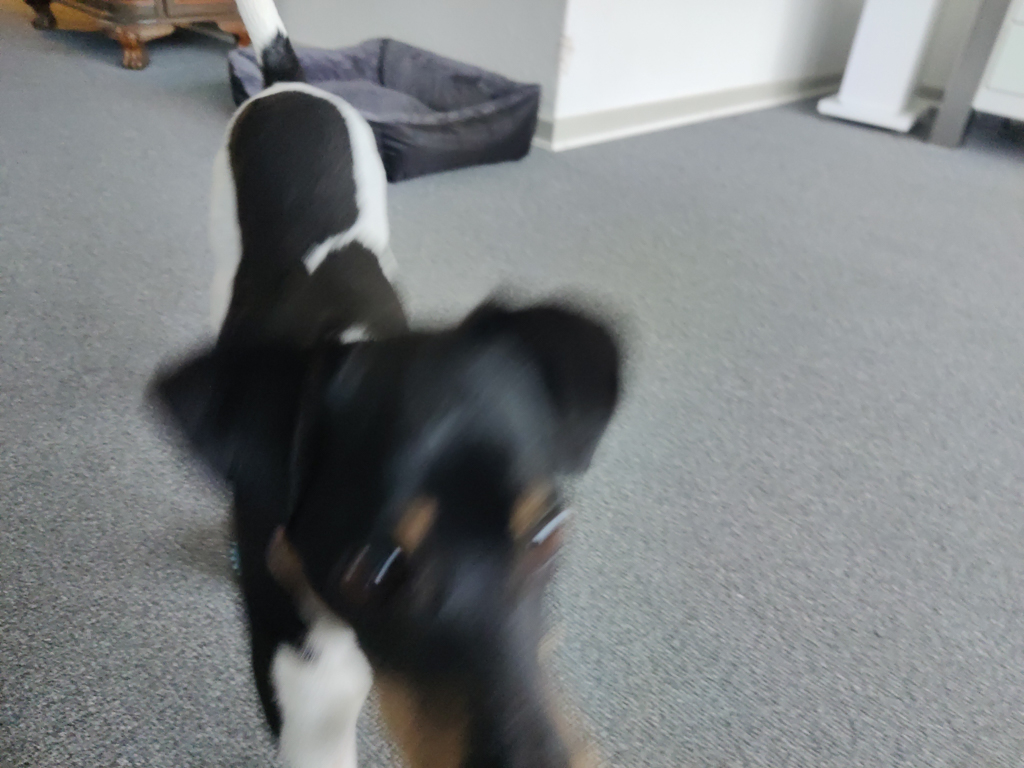Dog: (125, 0, 655, 768)
